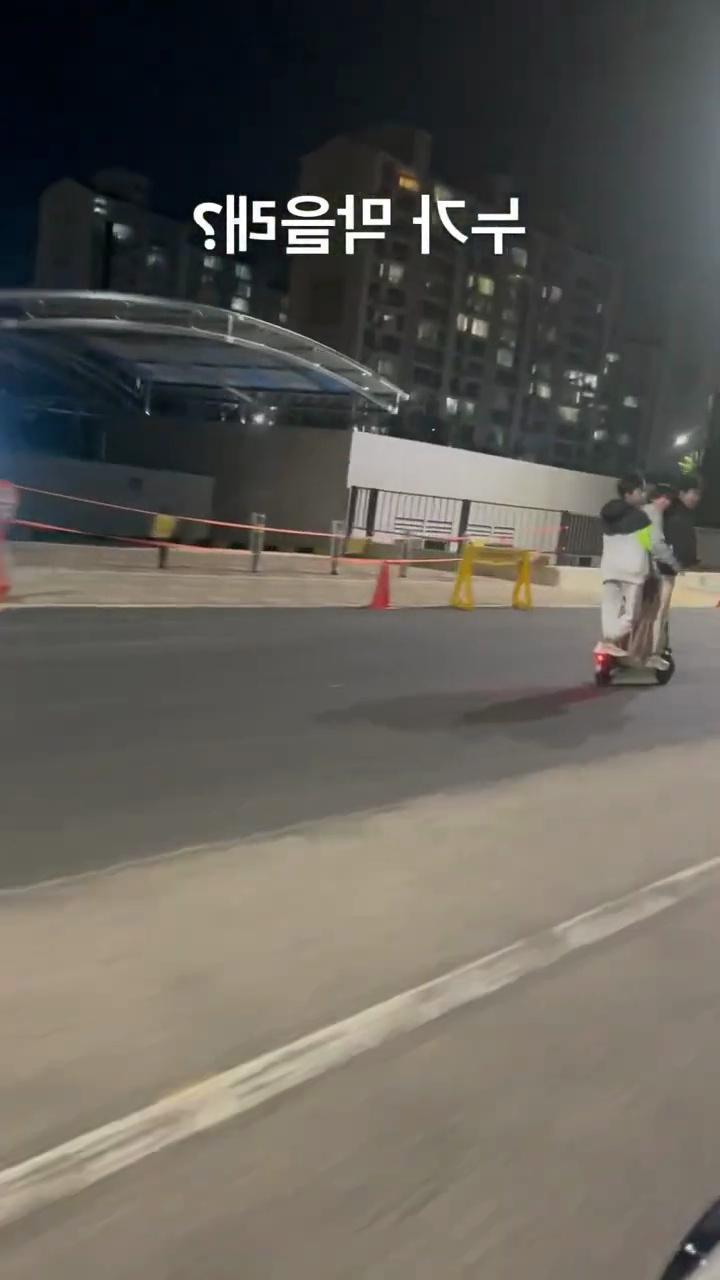multiple: (585, 470, 709, 691)
